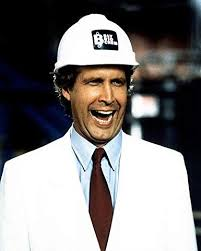Person_wearing_helmet: (54, 7, 138, 95)
